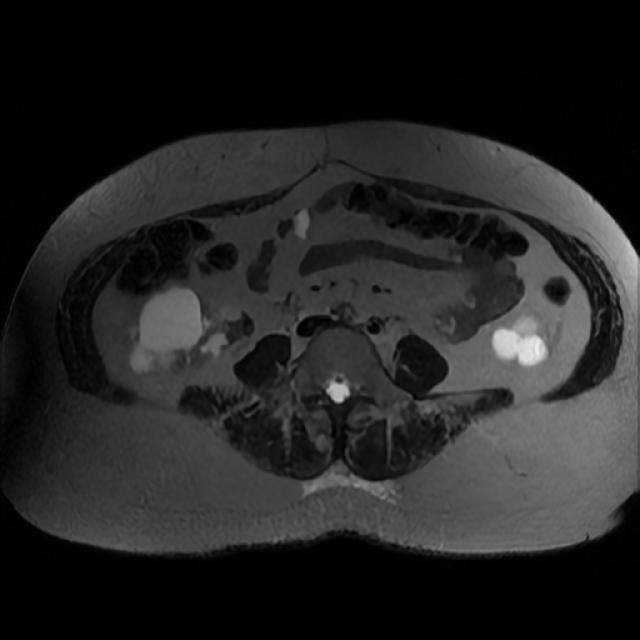sag: (126, 287, 253, 376)
sol: (491, 311, 552, 367)
